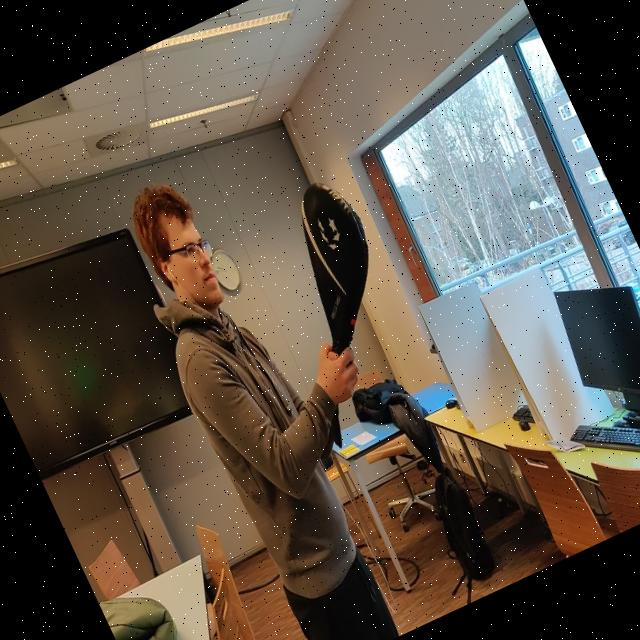paddle: (301, 182, 369, 351)
